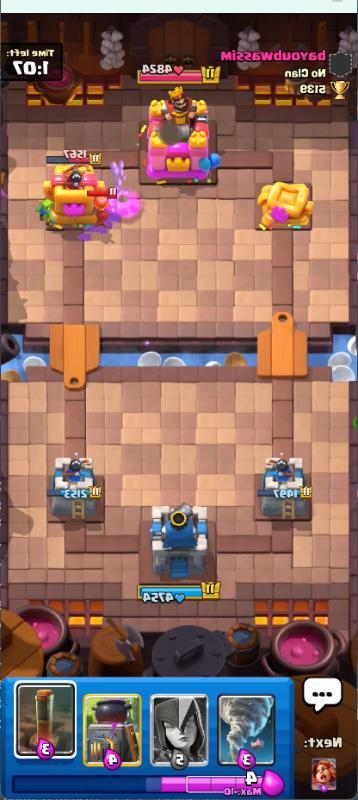enemy_valkyrie: (84, 182, 121, 233)
player_goblins: (32, 195, 60, 228)
